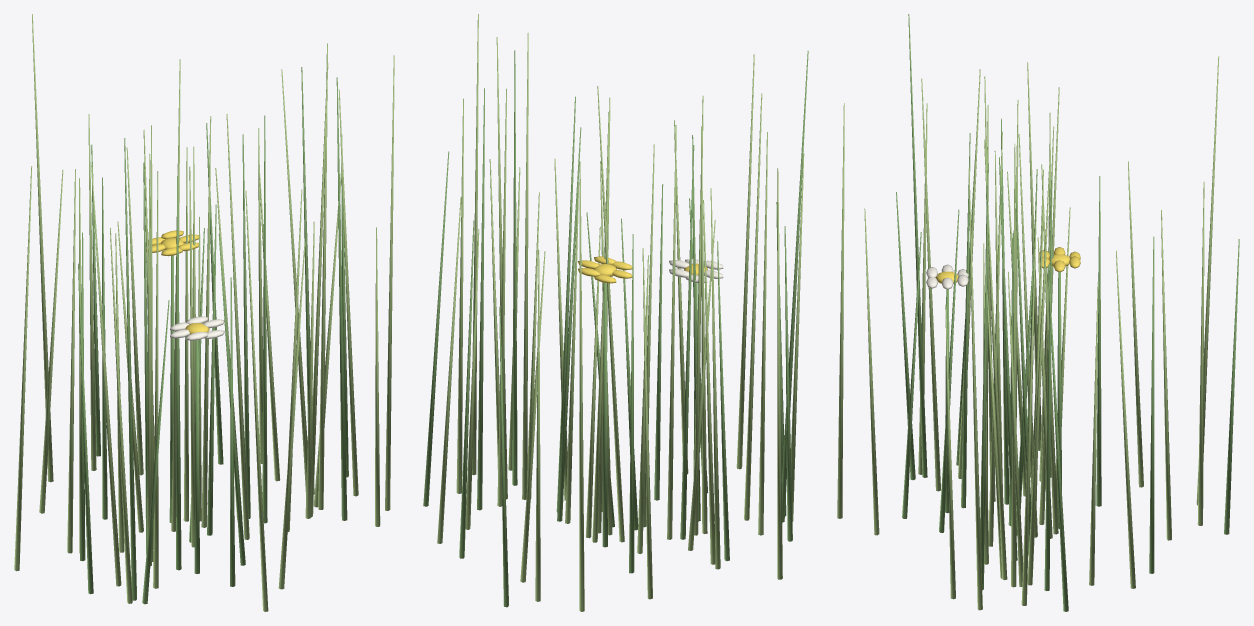
File: tall_grass_clump_c.glb
3 renders of one model, left to right at view 1: azimuth 30°, elevation 25°; view 2: azimuth 150°, elevation 25°; view 3: azimuth 270°, elevation 25°, orthographic. The views are drawn at different scales.
Visible parts, largest first — view 1: blade_0, blade_5, blade_27, blade_40, blade_25, blade_4, blade_17, blade_34, blade_26, blade_53, blade_7, blade_42 (+43 smaller); view 2: blade_4, blade_26, blade_28, blade_31, blade_27, blade_53, blade_17, blade_21, blade_22, blade_34, blade_7, blade_3 (+40 smaller); view 3: blade_40, blade_0, blade_20, blade_26, blade_17, blade_21, blade_27, blade_7, blade_31, blade_5, blade_36, blade_24 (+37 smaller).
Part boxes in pixels (x1,y1,x2,y2): blade_0: (124, 138, 136, 600); blade_5: (318, 43, 327, 509); blade_27: (336, 77, 347, 520); blade_40: (385, 55, 394, 510); blade_25: (226, 114, 249, 539); blade_4: (32, 14, 53, 482); blade_17: (245, 190, 268, 611); blade_34: (91, 165, 121, 586); blade_26: (311, 62, 328, 517); blade_53: (14, 166, 32, 571); blade_7: (338, 89, 358, 496); blade_42: (262, 115, 267, 523); blade_4: (579, 161, 584, 611); blade_26: (522, 33, 528, 499); blade_28: (597, 86, 624, 542); blade_31: (744, 93, 762, 520); blade_27: (512, 50, 517, 485); blade_53: (777, 168, 782, 579); blade_17: (736, 54, 754, 469); blade_21: (477, 88, 484, 510); blade_22: (667, 125, 676, 539); blade_34: (758, 132, 767, 535); blade_7: (456, 98, 463, 493); blade_3: (680, 145, 694, 539); blade_40: (968, 168, 982, 610); blade_0: (908, 14, 927, 477); blade_20: (1027, 161, 1050, 585); blade_26: (984, 140, 1007, 580); blade_17: (837, 103, 844, 518); blade_21: (1044, 175, 1052, 590); blade_27: (980, 163, 988, 590); blade_7: (1021, 212, 1036, 605); blade_31: (921, 78, 940, 491); blade_5: (1011, 144, 1016, 587); blade_36: (1149, 236, 1154, 573); blade_24: (961, 133, 970, 508).
Size of the model in its own units: 0.7598 by 0.9867 by 0.7921.
